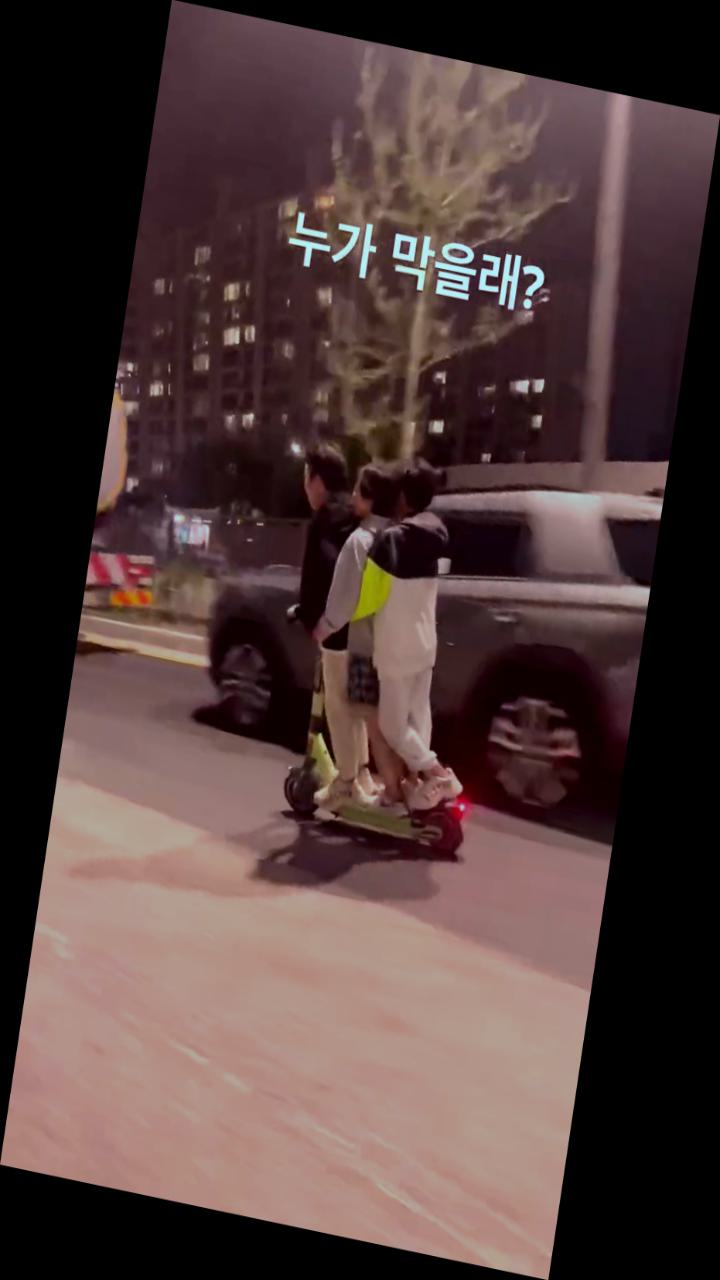multiple: (235, 430, 527, 874)
